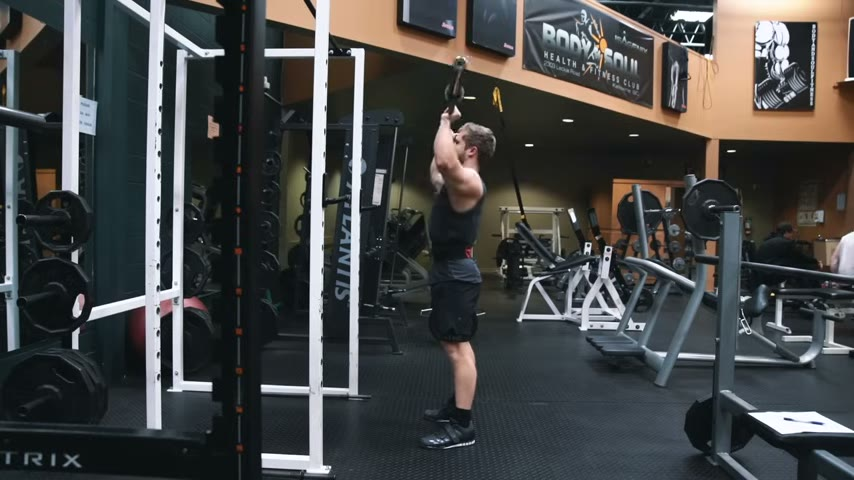barbell_plate_side: (123, 185, 226, 448)
